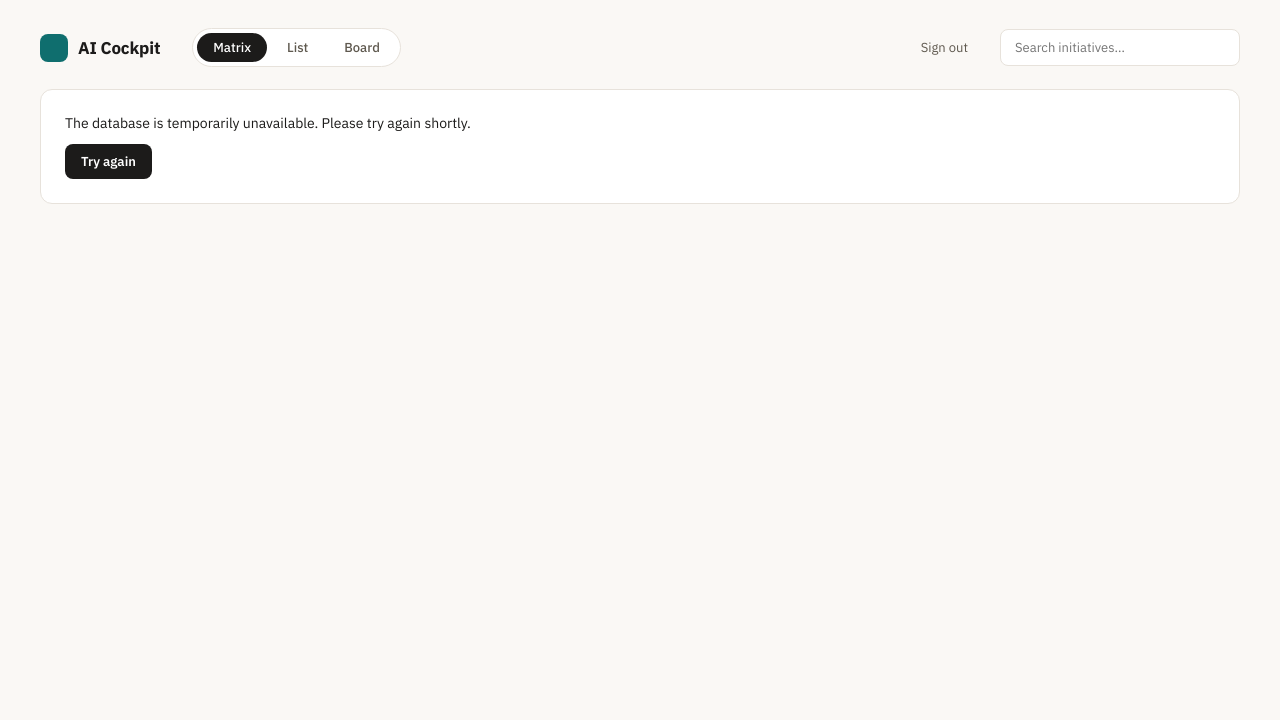
it: app › explains a 503 and can retry
Expected: the message shows "unavailable", x1=65 y1=114 x2=471 y2=132
Click the button "Try again" at (108, 162), box x1=65 y1=144 x2=152 y2=179
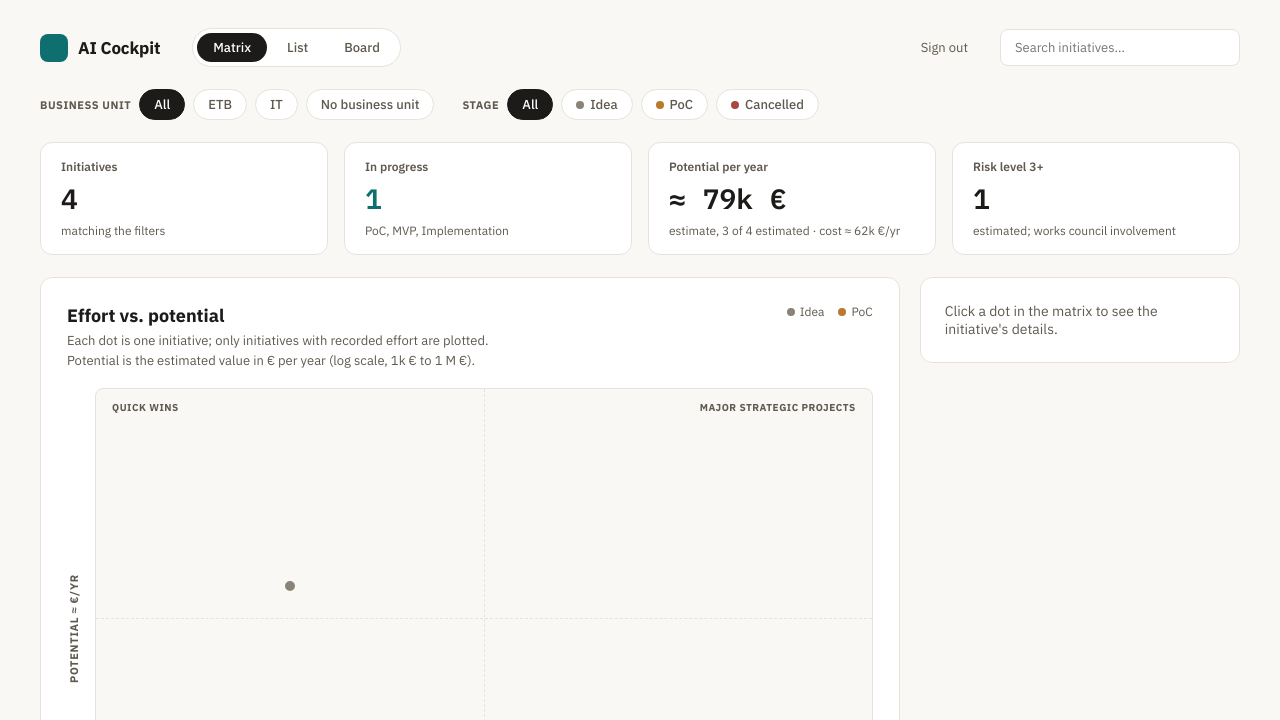
Now the heading "Effort vs. potential" is shown, box x1=67 y1=304 x2=224 y2=327
